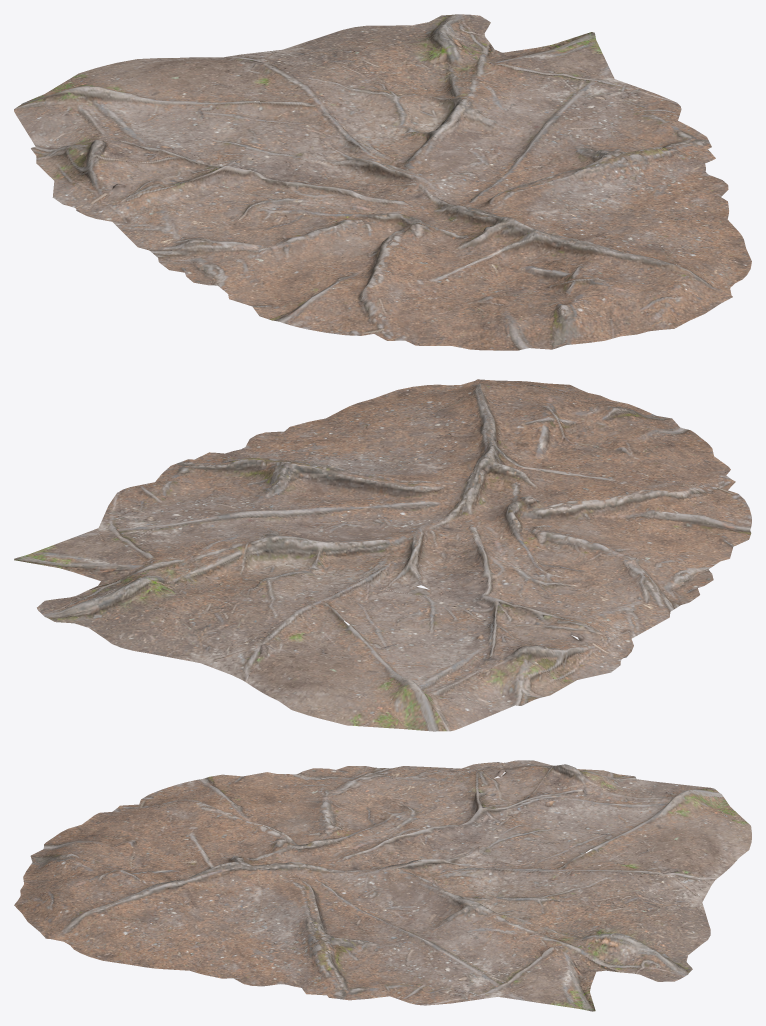
Rendered from SM_RootsGround_01_02.fbx.
3 views of the same model, one above another, from view 1: azimuth 30°, elevation 25°; view 2: azimuth 150°, elevation 25°; view 3: azimuth 270°, elevation 25° (orthographic). The views are drawn at different scales.
Parts seen in each view (by area): view 1: sm_RootsGround_01_02_LOD0; view 2: sm_RootsGround_01_02_LOD0; view 3: sm_RootsGround_01_02_LOD0.
Part boxes in pixels (<box>): sm_RootsGround_01_02_LOD0: <box>14,14,751,350</box>; sm_RootsGround_01_02_LOD0: <box>14,379,751,731</box>; sm_RootsGround_01_02_LOD0: <box>14,760,751,1011</box>.
Size of the model in its own units: 284 by 229 by 12.35.
